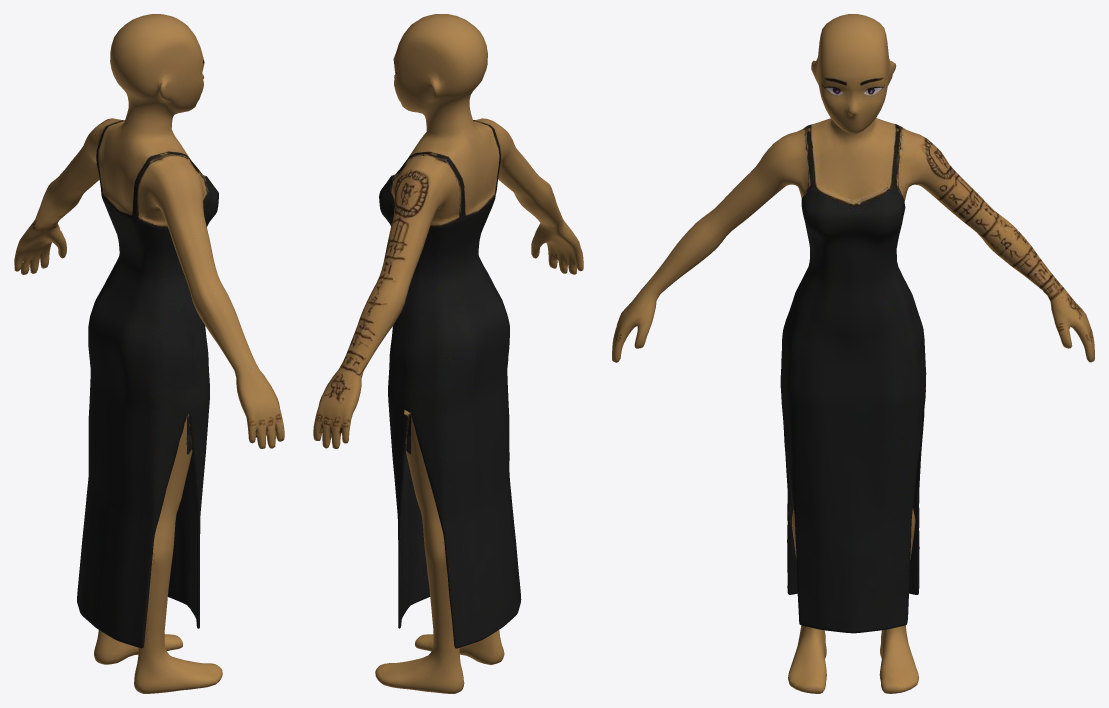
The model's file is witch_bald_fixed.glb.
3 views of the same model, side by side, from view 1: azimuth 30°, elevation 25°; view 2: azimuth 150°, elevation 25°; view 3: azimuth 270°, elevation 25° (orthographic).
Visible parts, largest first — view 1: tripo_node_d04e181e-3006-4375-bb7d-55b49258bffc; view 2: tripo_node_d04e181e-3006-4375-bb7d-55b49258bffc; view 3: tripo_node_d04e181e-3006-4375-bb7d-55b49258bffc.
Boxes of the visible parts, <box> form: tripo_node_d04e181e-3006-4375-bb7d-55b49258bffc: <box>14,14,284,693</box>; tripo_node_d04e181e-3006-4375-bb7d-55b49258bffc: <box>313,14,583,693</box>; tripo_node_d04e181e-3006-4375-bb7d-55b49258bffc: <box>612,14,1094,693</box>.
Bounding box in the file's own units: 0.1733 × 0.9993 × 0.6686.
Materials: 1 (1 with a texture image).
